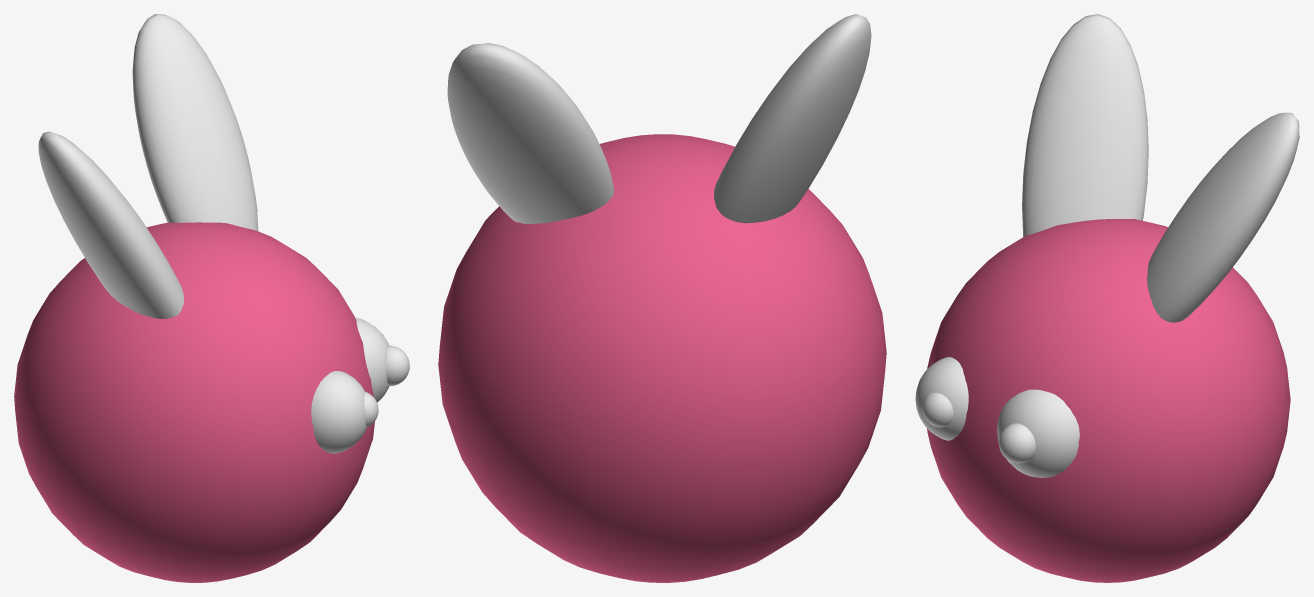
3 views of the same model, side by side, from view 1: azimuth 30°, elevation 25°; view 2: azimuth 150°, elevation 25°; view 3: azimuth 270°, elevation 25° (orthographic). The views are drawn at different scales.
Parts seen in each view (by area): view 1: Sphere, Sphere.001, Sphere.002, Sphere.004, Sphere.003, Sphere.006; view 2: Sphere, Sphere.001, Sphere.002; view 3: Sphere, Sphere.002, Sphere.001, Sphere.003, Sphere.004, Sphere.006, Sphere.005.
Boxes of the visible parts, x1,y1,x2,y2 form: Sphere: (14,222,374,582); Sphere.001: (132,14,258,230); Sphere.002: (38,131,183,318); Sphere.004: (311,371,366,453); Sphere.003: (355,317,389,402); Sphere.006: (386,345,409,386); Sphere: (438,134,886,582); Sphere.001: (447,43,613,223); Sphere.002: (714,14,871,223); Sphere: (927,219,1290,582); Sphere.002: (1022,14,1148,237); Sphere.001: (1147,112,1299,322); Sphere.003: (997,389,1079,477); Sphere.004: (915,357,968,440); Sphere.006: (999,423,1035,463); Sphere.005: (922,392,953,427).
Size of the model in its own units: 2.9 by 4.02 by 2.93.
